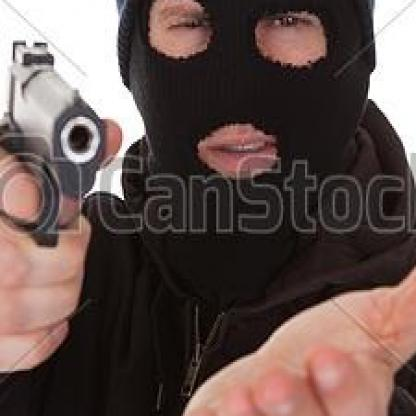gun: (6, 32, 107, 256)
